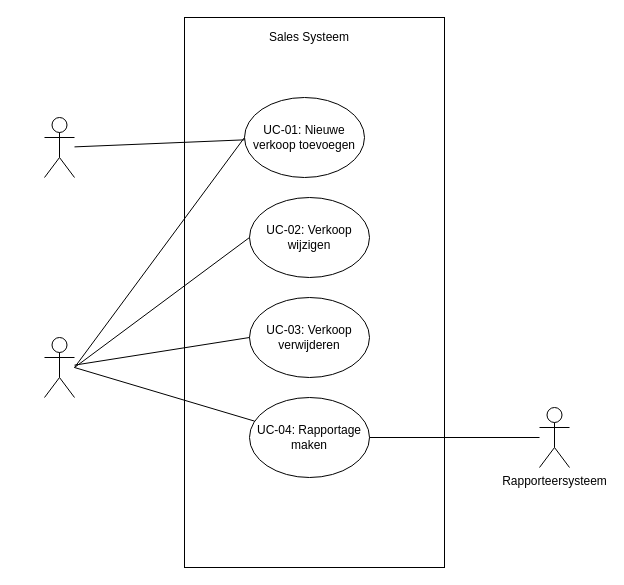
Some shapes in this 624 by 585 pixel diagram are drawn without their labels. Each missing label, with the centre of its shape:
"Leidinggevende" belongs at (59,367).
"Verkoper" belongs at (59,147).
